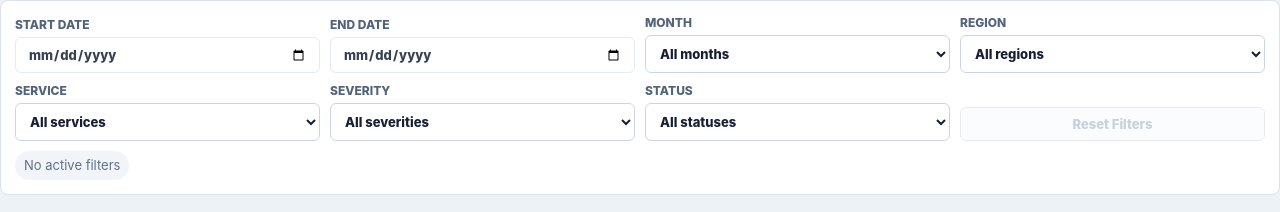
Test: FilterPanel › shows active filter summary and reset behavior
This screenshot has width=1280, height=212.
Select "Jakarta" in the dropdown labelled "Region" at (1112, 54), box x1=960 y1=35 x2=1265 y2=73
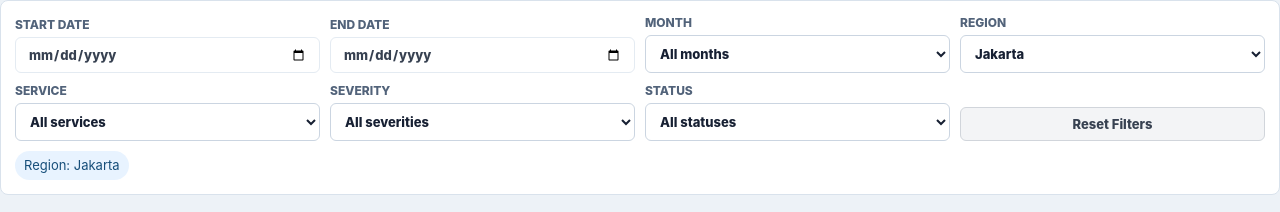
Check: the text "Region: Jakarta" is shown, box x1=15 y1=151 x2=129 y2=180
Click the button "Reset Filters" at (1112, 124), box x1=960 y1=107 x2=1265 y2=141
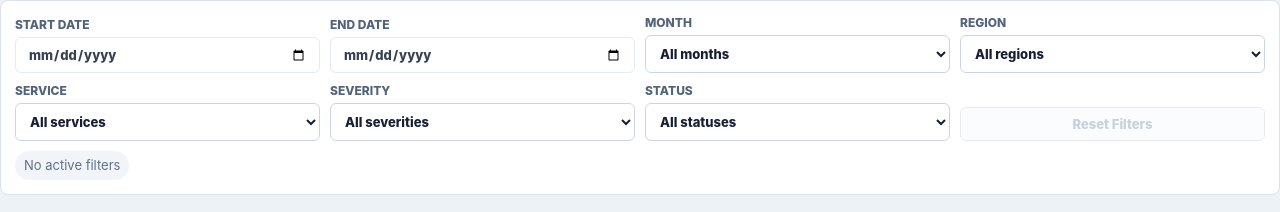
Check: the text "No active filters" is shown, box x1=15 y1=151 x2=129 y2=180
